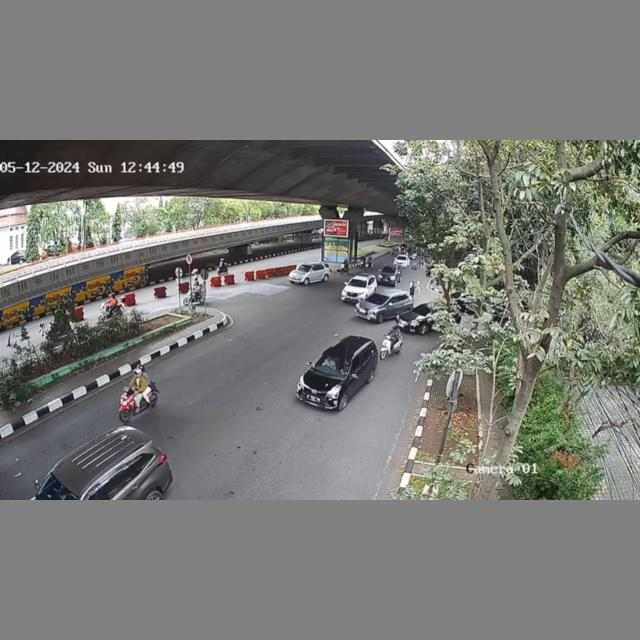windshield: (312, 352, 352, 379)
